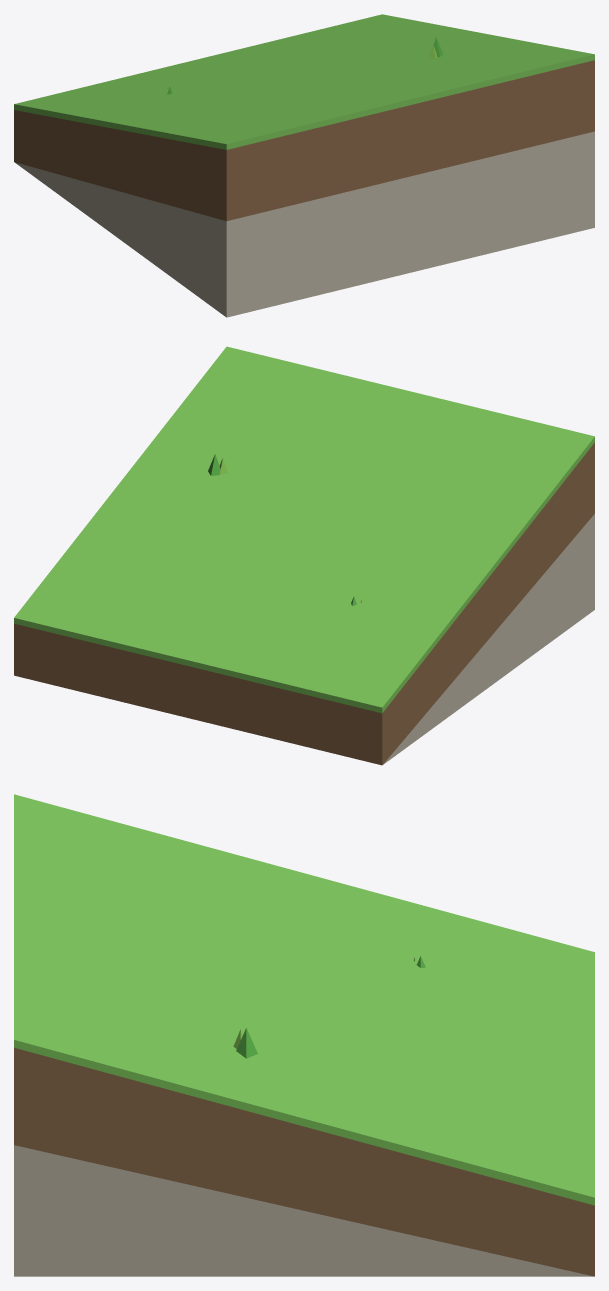
File: rampa.glb
3 views of the same model, one above another, from view 1: azimuth 30°, elevation 25°; view 2: azimuth 150°, elevation 25°; view 3: azimuth 270°, elevation 25° (orthographic). The views are drawn at different scales.
Parts seen in each view (by area): view 1: corpo; view 2: corpo; view 3: corpo.
Part boxes in pixels (box(x1,y1,x2,y2)): corpo: box(14, 14, 594, 317); corpo: box(14, 346, 594, 765); corpo: box(14, 794, 594, 1276).
Bounding box in the file's own units: 2 × 0.9 × 2.
